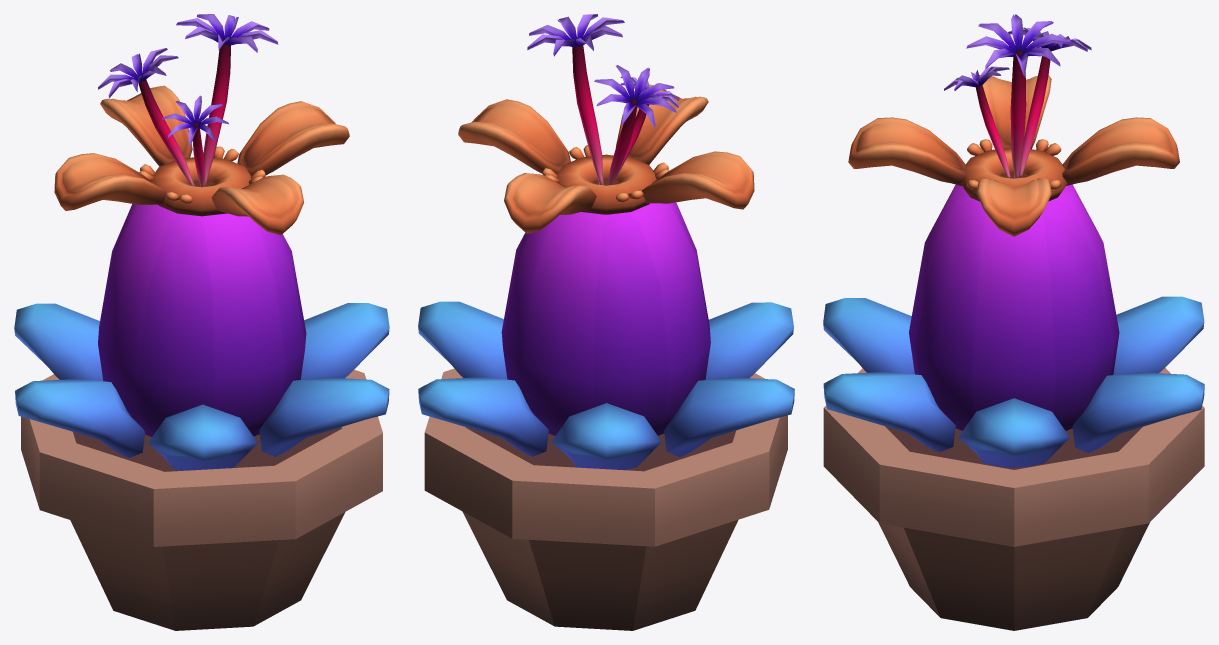
Rendered from wp_wPot_1.fbx.
3 renders of one model, left to right at view 1: azimuth 30°, elevation 25°; view 2: azimuth 150°, elevation 25°; view 3: azimuth 270°, elevation 25°, orthographic.
Visible parts, largest first — view 1: w_pl1; view 2: w_pl1; view 3: w_pl1.
Part boxes in pixels (bbox=[...]): w_pl1: bbox=[14, 14, 389, 630]; w_pl1: bbox=[418, 14, 794, 630]; w_pl1: bbox=[823, 14, 1204, 630].
Bounding box in the file's own units: 124 × 180 × 109.
